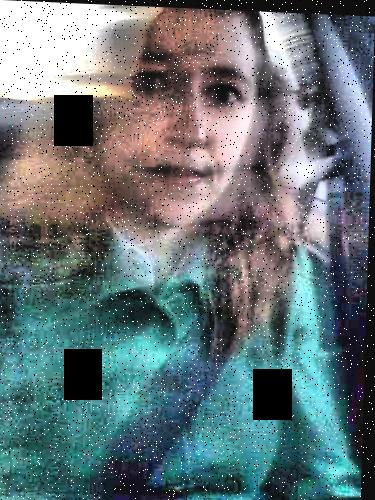seatbelt: (119, 206, 300, 461)
